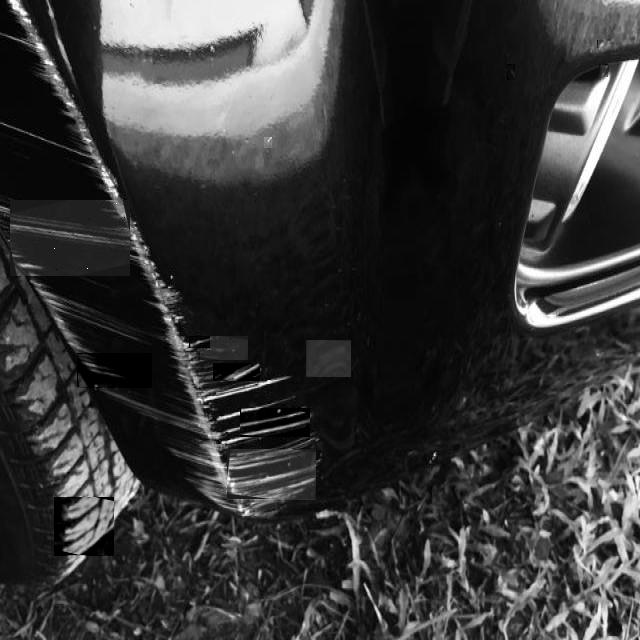Dent: (10, 200, 130, 276), (227, 449, 316, 502), (54, 498, 114, 558), (77, 354, 152, 389), (240, 408, 310, 437), (306, 340, 351, 377), (200, 336, 248, 360), (213, 363, 260, 381), (189, 336, 210, 348), (507, 64, 515, 80), (599, 64, 608, 77), (264, 138, 272, 150), (597, 40, 604, 48)
